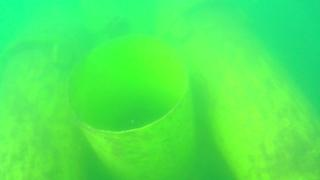pipe: (168, 10, 320, 180), (64, 32, 205, 180), (1, 21, 104, 180)
